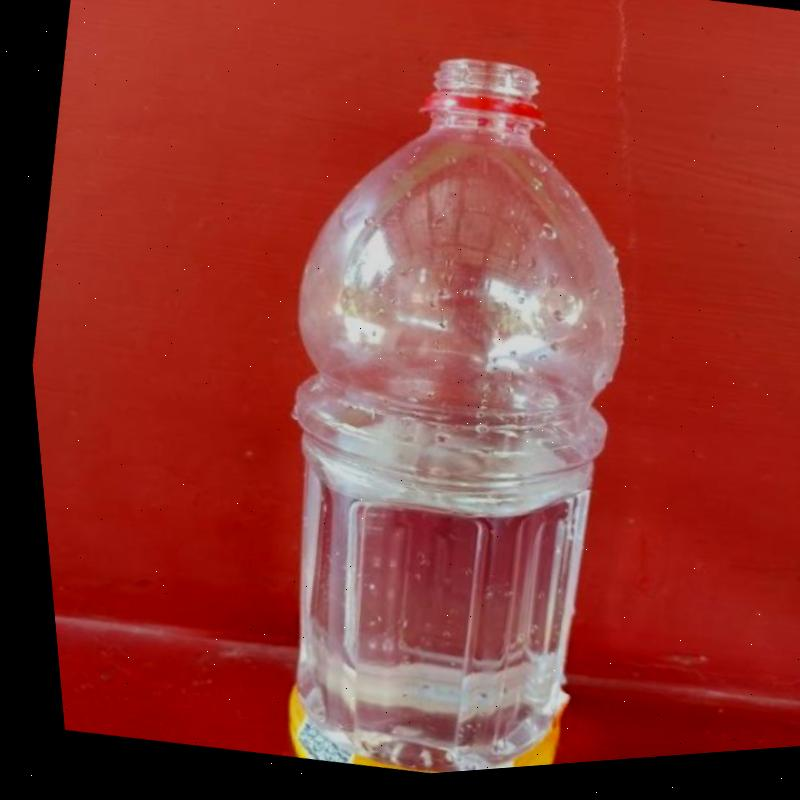botella: (188, 27, 700, 789)
